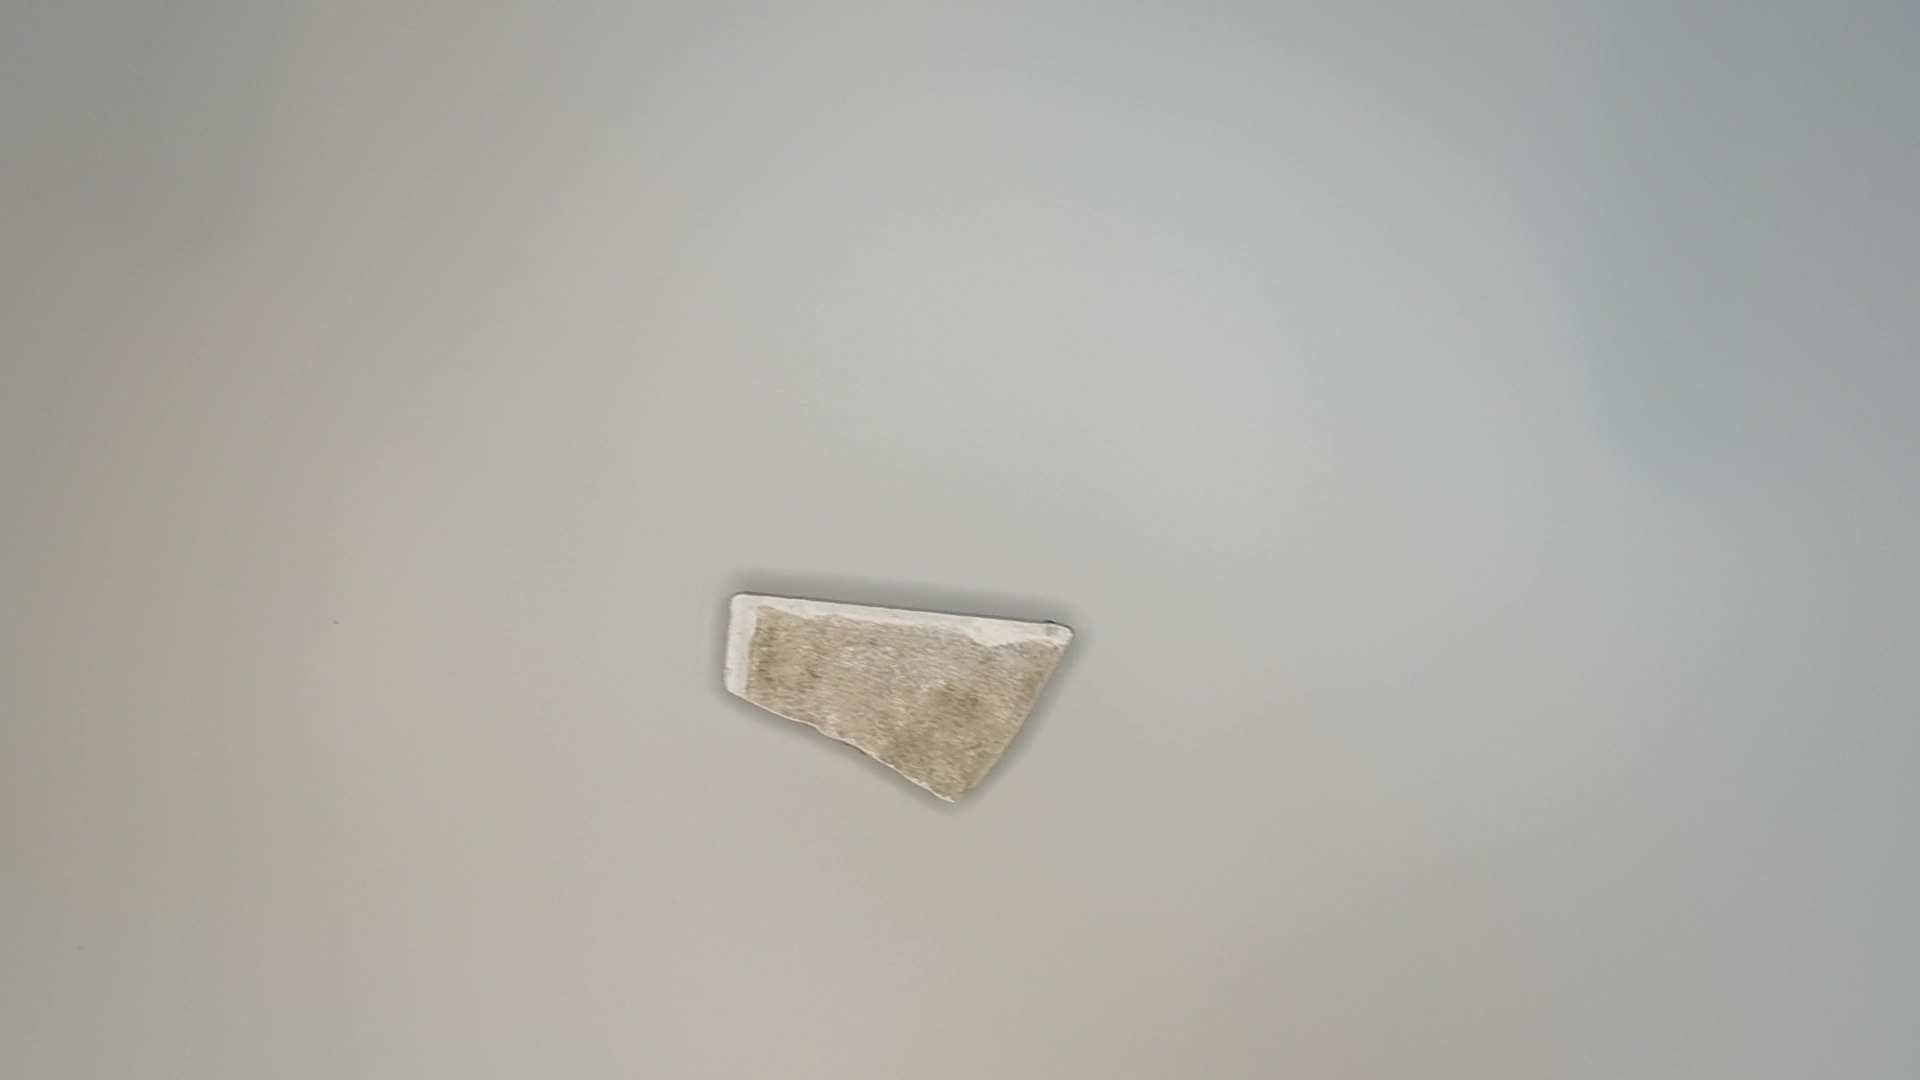ceramic: (713, 585, 1087, 812)
